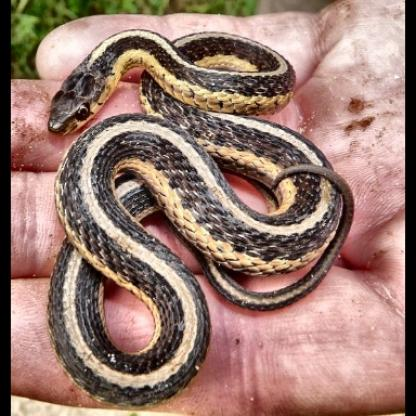Snake: (38, 6, 354, 410)
